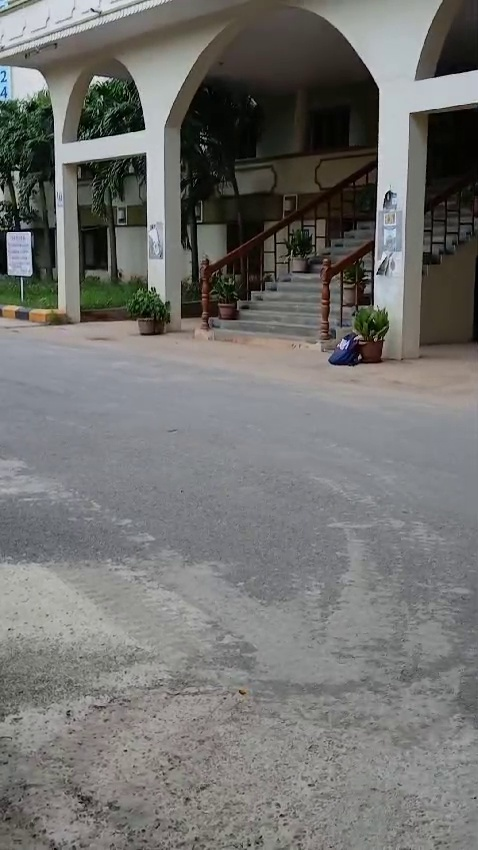bag: (323, 330, 358, 368)
